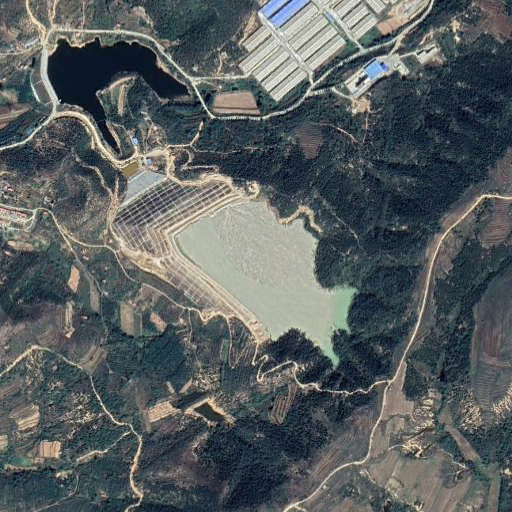tp: (113, 160, 358, 370)
